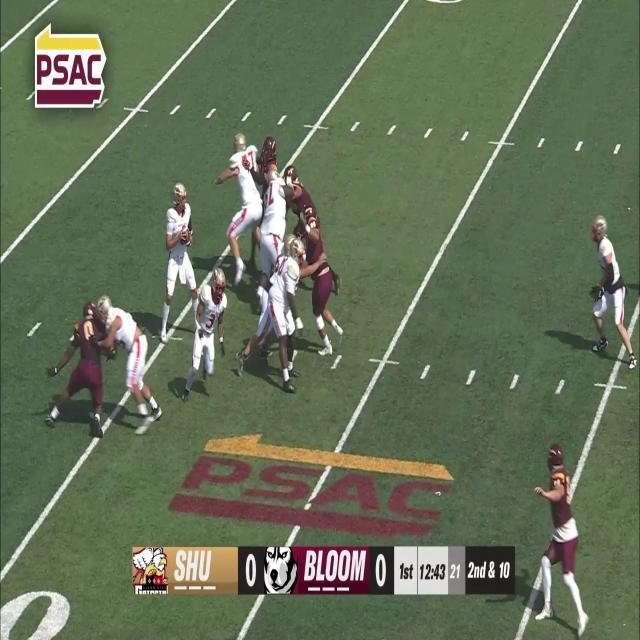football: (180, 224, 190, 244)
